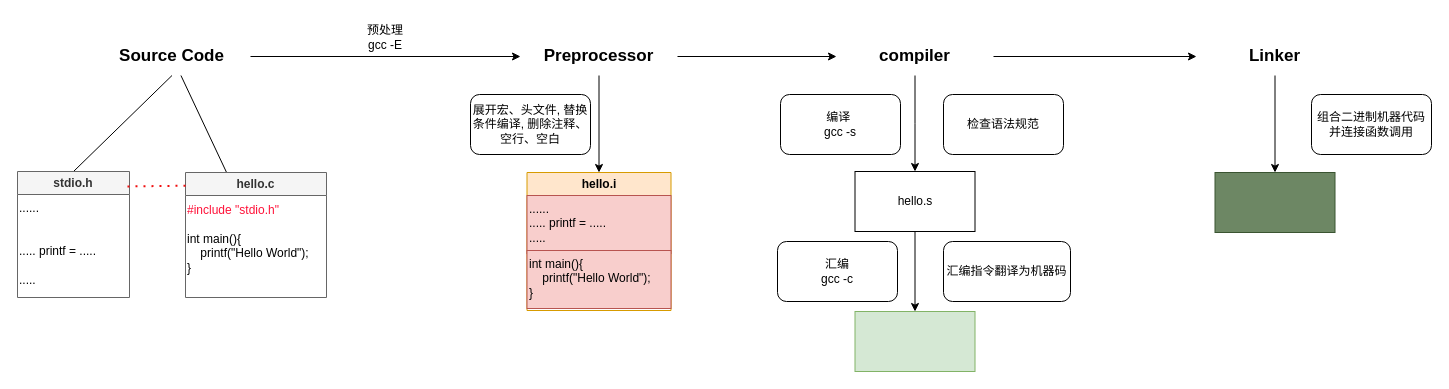
The diagram is 1449 pixels wide and 389 high, and some of its shapes have lost their labels. Each missing label, with the centre of its shape:
hello.o: the point at 914,341
hello.out: the point at 1274,202
